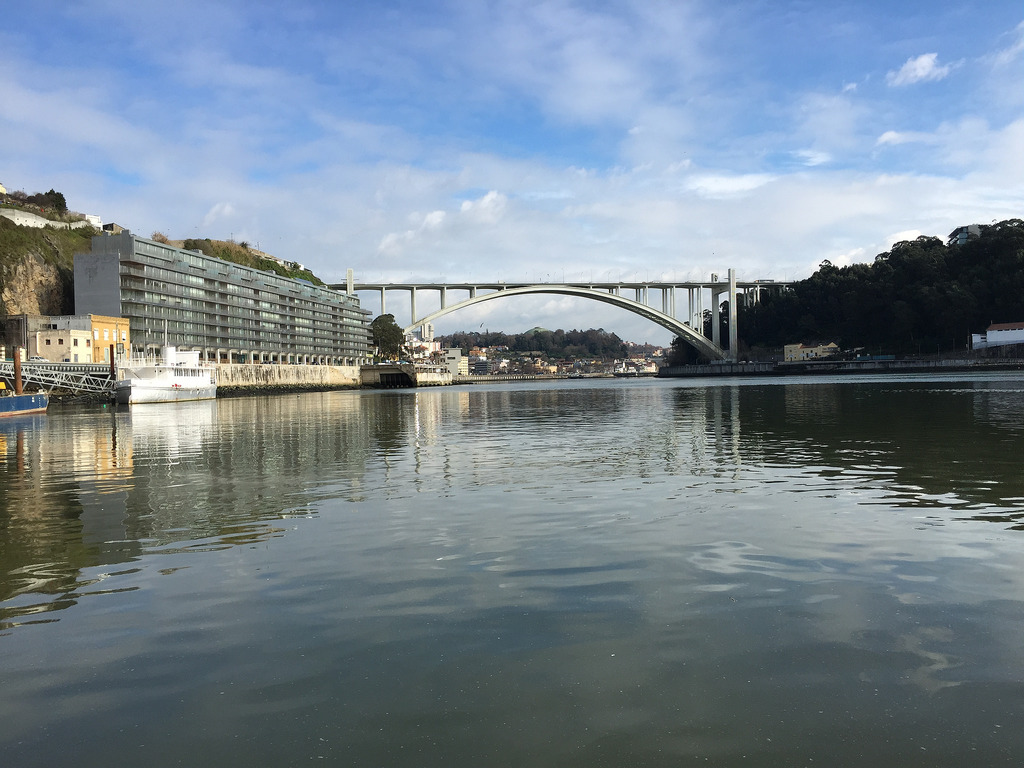arrabida: (322, 269, 805, 366)
